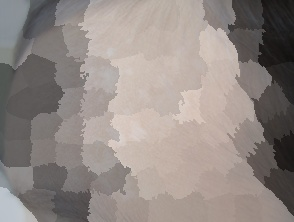vitiligo: (15, 16, 180, 222)
